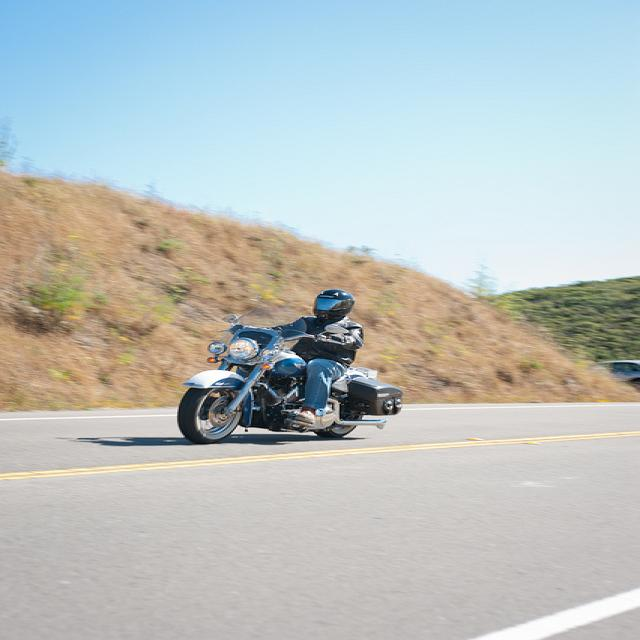motor: (181, 309, 417, 442)
